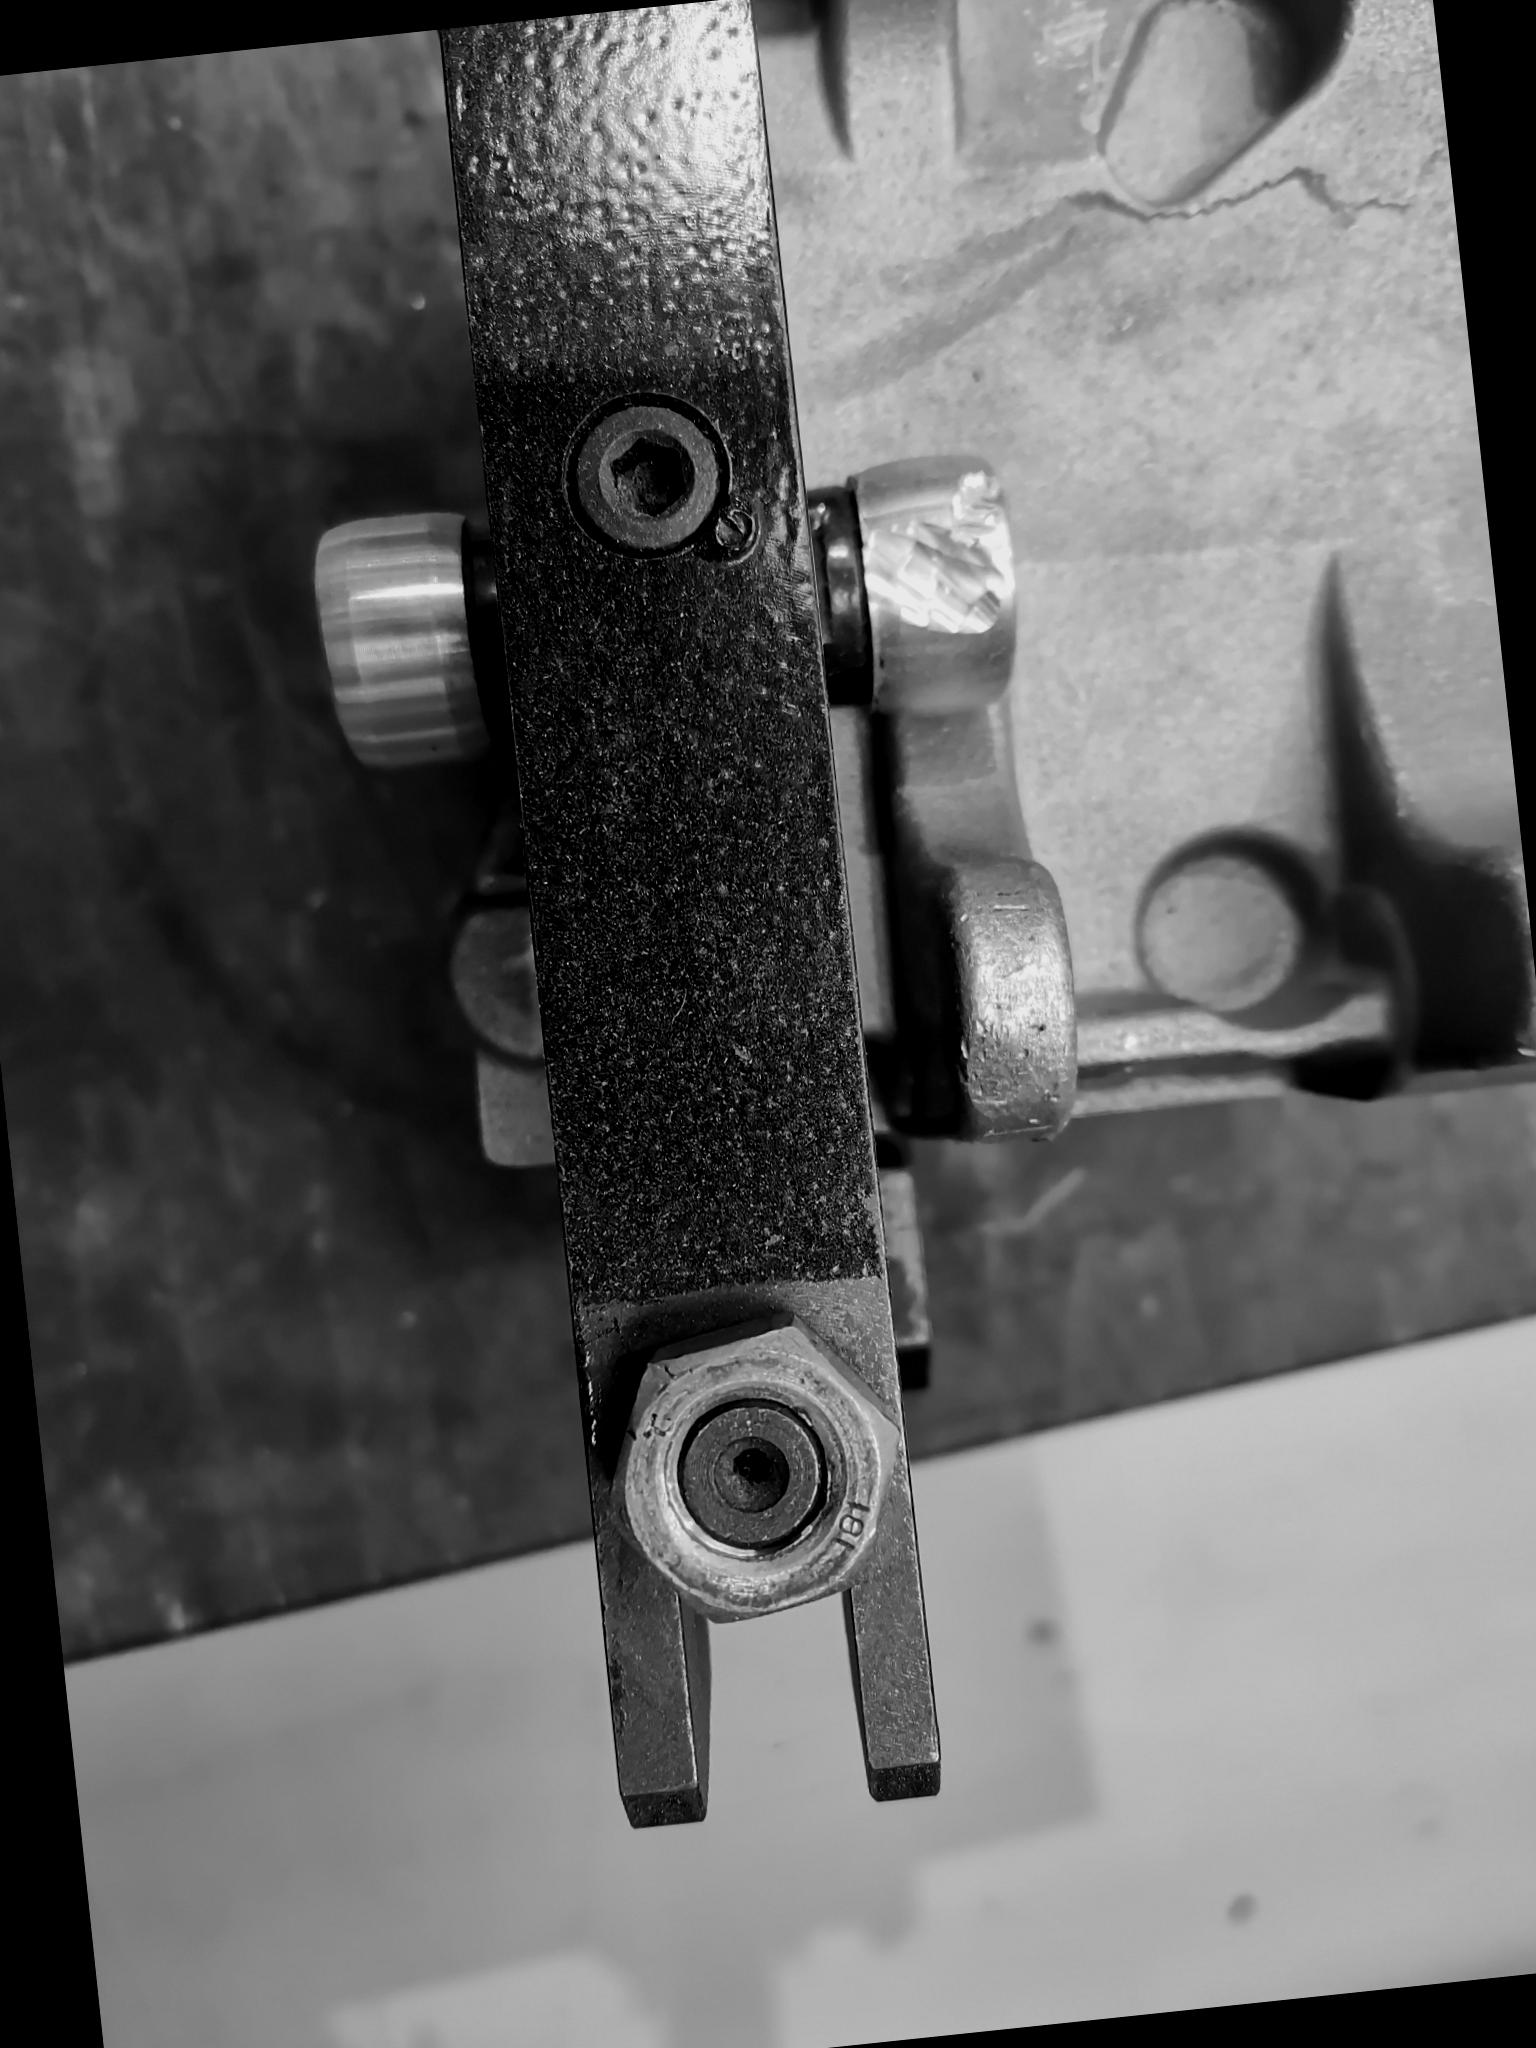allen: (545, 364, 752, 569)
hexagonal: (571, 1293, 931, 1640)
